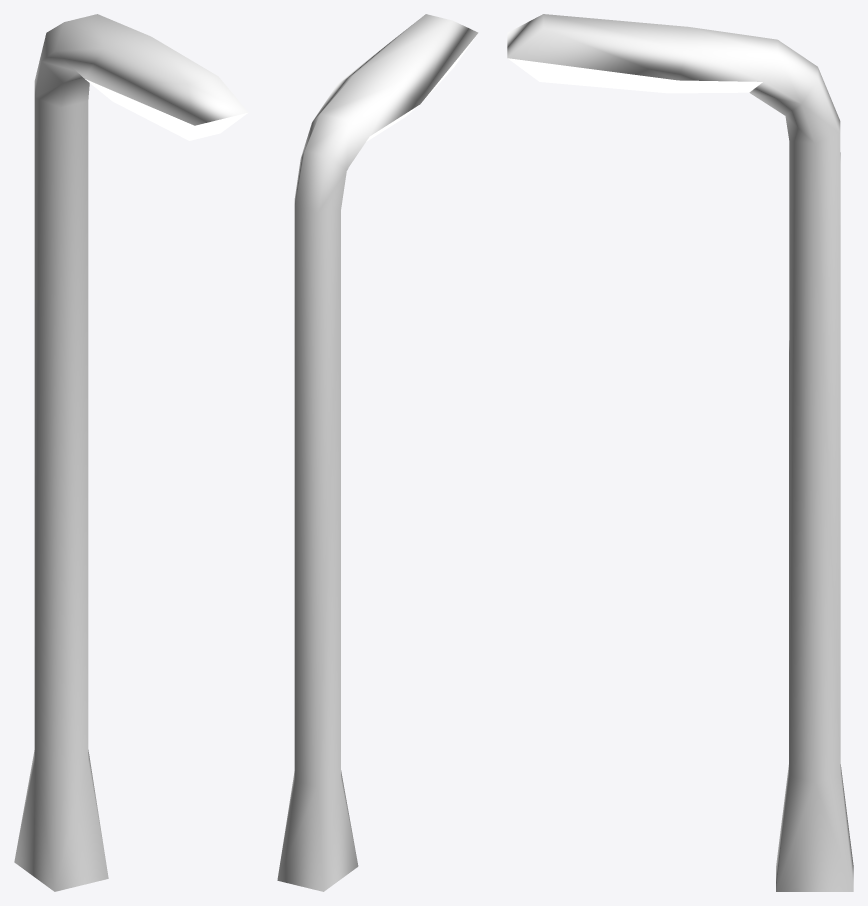
Rendered from streetLightpole.glb.
3 views of the same model, side by side, from view 1: azimuth 30°, elevation 25°; view 2: azimuth 150°, elevation 25°; view 3: azimuth 270°, elevation 25° (orthographic). The views are drawn at different scales.
Visible parts, largest first — view 1: street_Light_pole; view 2: street_Light_pole; view 3: street_Light_pole.
Part boxes in pixels (left/top/right/bottom): street_Light_pole: left=14, top=14, right=248, bottom=891; street_Light_pole: left=277, top=14, right=478, bottom=891; street_Light_pole: left=507, top=14, right=853, bottom=891.
Size of the model in its own units: 0.4528 by 4 by 1.46.
2 materials, 2 textured.
